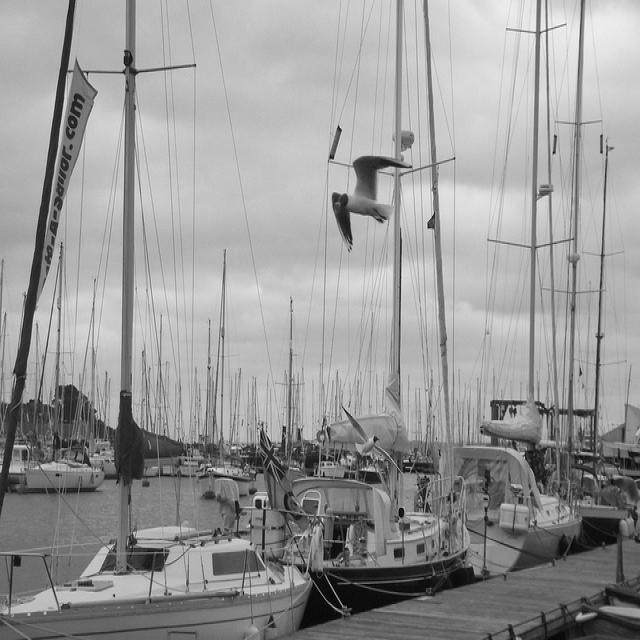monkey: (324, 503, 335, 558)
